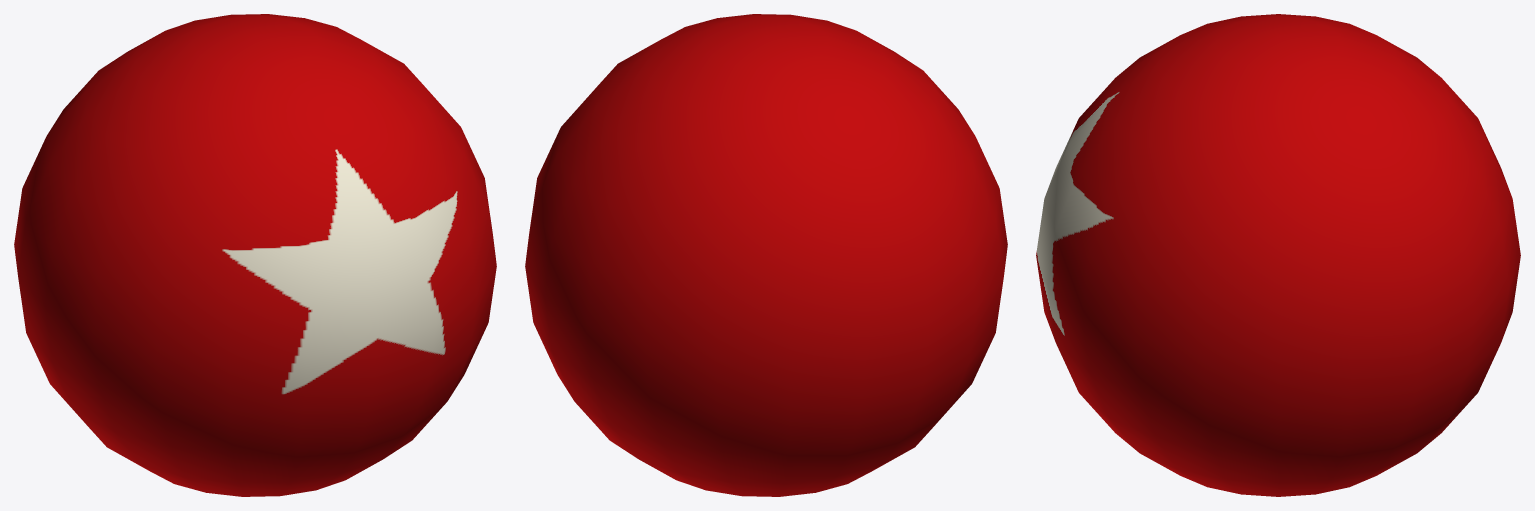
Rendered from SM_BouncyBall.fbx.
3 renders of one model, left to right at view 1: azimuth 30°, elevation 25°; view 2: azimuth 150°, elevation 25°; view 3: azimuth 270°, elevation 25°, orthographic.
Visible parts, largest first — view 1: SM_BouncyBall; view 2: SM_BouncyBall; view 3: SM_BouncyBall.
Boxes of the visible parts, x1,y1,x2,y2 form: SM_BouncyBall: (14, 14, 496, 496); SM_BouncyBall: (525, 14, 1007, 496); SM_BouncyBall: (1036, 14, 1520, 496).
Bounding box in the file's own units: 2 × 2 × 2.
Materials: 1 (1 with a texture image).
